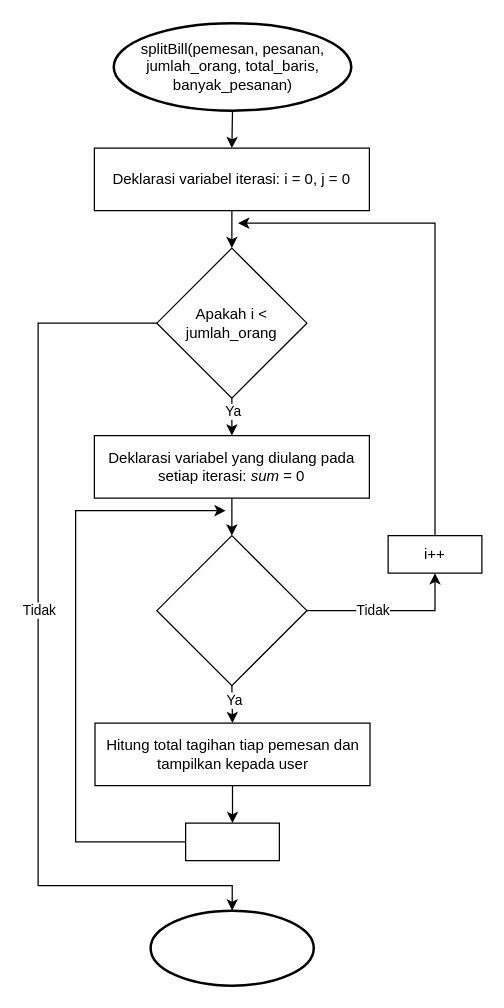
Image size: 504x1008. Some labels were removed from this diagram. Here are the shapes that lost their labels. From the top down, the box of each, then its label:
(156, 534, 307, 686): Apakah j < total_baris-2?
(184, 822, 279, 861): j++
(149, 909, 314, 986): return
